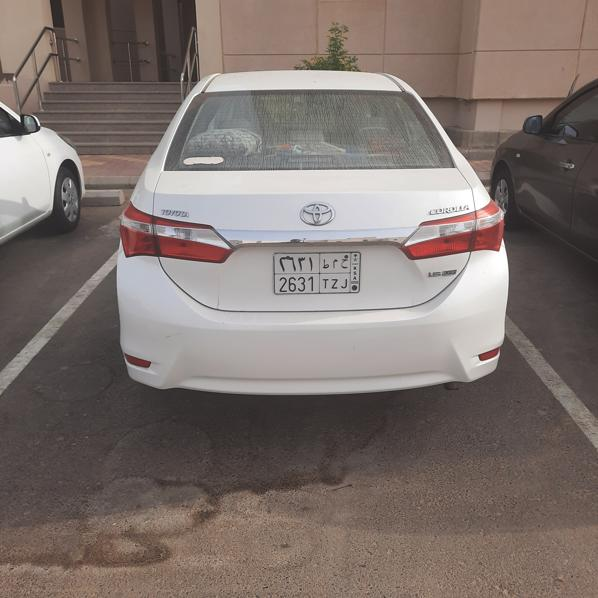numberplate: (273, 251, 362, 293)
